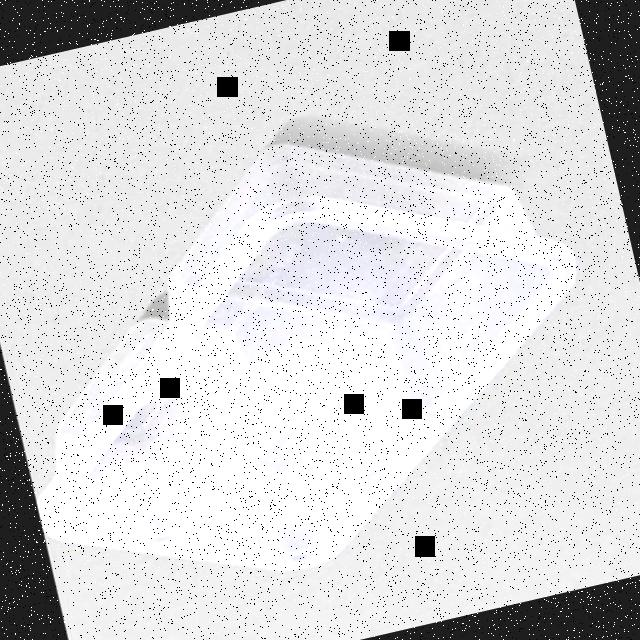plastic_box: (0, 81, 622, 623)
